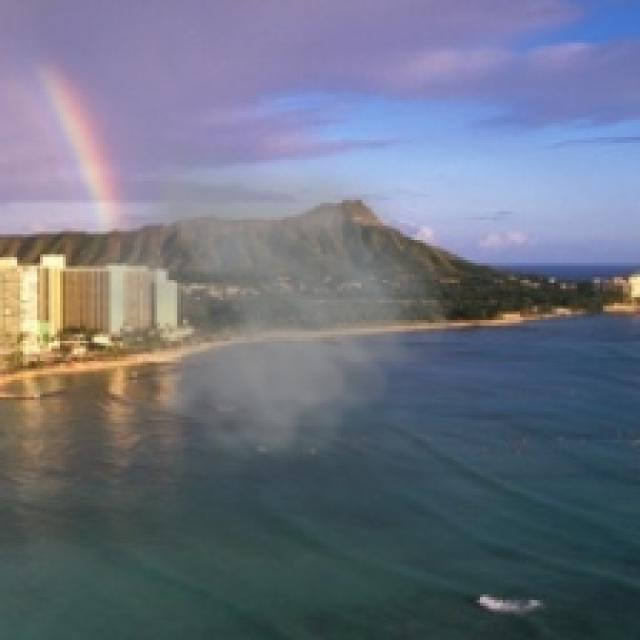smoke: (54, 146, 472, 491)
